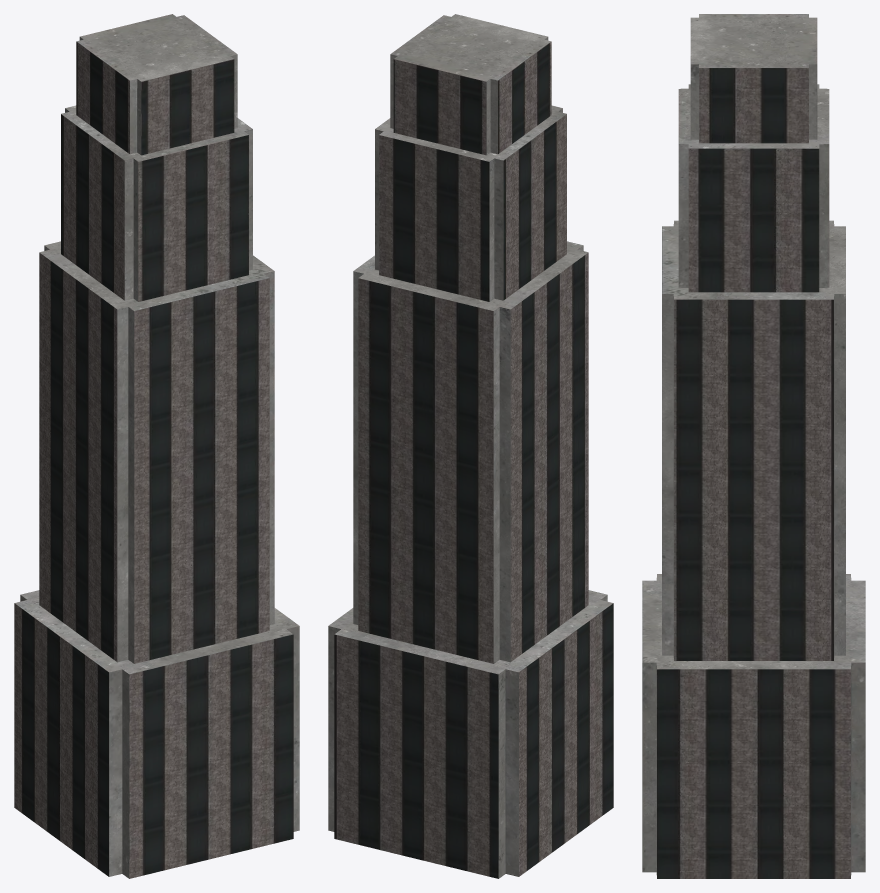
Rendered from la-tower-b.glb.
3 renders of one model, left to right at view 1: azimuth 30°, elevation 25°; view 2: azimuth 150°, elevation 25°; view 3: azimuth 270°, elevation 25°, orthographic. The views are drawn at different scales.
Visible parts, largest first — view 1: tower-b; view 2: tower-b; view 3: tower-b.
Part boxes in pixels (x1,y1,x2,y2): tower-b: (14,14,299,878); tower-b: (328,14,613,878); tower-b: (642,14,865,878).
Size of the model in its own units: 60.69 by 235 by 60.07.
Materials: 1 (1 with a texture image).
